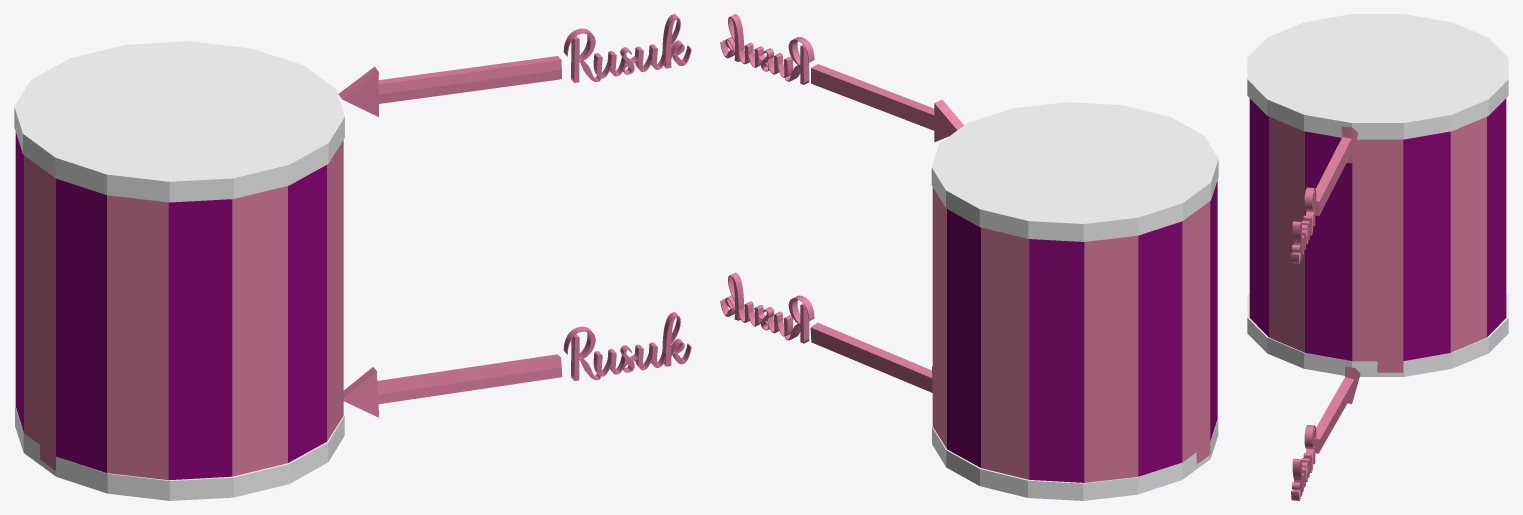
File: Rusuk-Tabung.fbx
3 renders of one model, left to right at view 1: azimuth 30°, elevation 25°; view 2: azimuth 150°, elevation 25°; view 3: azimuth 270°, elevation 25°, orthographic. The views are drawn at different scales.
Visible parts, largest first — view 1: Cylinder, Cylinder.010, Cylinder.009, Cylinder.011, Cylinder.008, Cylinder.012, Cylinder.007, Cylinder.017, Cube, Cube.001, Cylinder.013, Text.001 (+2 smaller); view 2: Cylinder, Cylinder.004, Cylinder.005, Cylinder.003, Cylinder.006, Cylinder.002, Cylinder.007, Cylinder.017, Cube, Cylinder.001, Cube.001, Text (+2 smaller); view 3: Cylinder, Cylinder.015, Cylinder.016, Cylinder.014, Cylinder.001, Cylinder.013, Cylinder.012, Cylinder.002, Cylinder.017, Cube, Cube.001, Text (+1 smaller).
Part boxes in pixels (box(x1,y1,x2,y2)): Cylinder: box(14, 41, 344, 202); Cylinder.010: box(168, 199, 232, 480); Cylinder.009: box(107, 195, 168, 479); Cylinder.011: box(232, 186, 287, 476); Cylinder.008: box(56, 178, 106, 472); Cylinder.012: box(288, 165, 326, 462); Cylinder.007: box(24, 155, 55, 470); Cylinder.017: box(15, 405, 344, 500); Cube: box(338, 56, 561, 116); Cube.001: box(343, 354, 562, 417); Cylinder.013: box(327, 140, 343, 441); Text.001: box(563, 312, 691, 380); Cylinder: box(931, 102, 1218, 241); Cylinder.004: box(1029, 239, 1084, 482); Cylinder.005: box(1084, 235, 1138, 482); Cylinder.003: box(981, 227, 1029, 479); Cylinder.006: box(1138, 221, 1182, 476); Cylinder.002: box(947, 209, 980, 467); Cylinder.007: box(1182, 201, 1210, 463); Cylinder.017: box(932, 418, 1218, 500); Cube: box(811, 64, 963, 142); Cylinder.001: box(932, 187, 946, 448); Cube.001: box(810, 322, 932, 392); Text: box(720, 14, 814, 84); Cylinder: box(1247, 14, 1508, 139); Cylinder.015: box(1352, 139, 1403, 372); Cylinder.016: box(1403, 131, 1450, 360); Cylinder.014: box(1305, 131, 1352, 360); Cylinder.001: box(1450, 117, 1486, 352); Cylinder.013: box(1269, 116, 1304, 352); Cylinder.012: box(1249, 98, 1268, 336); Cylinder.002: box(1487, 98, 1506, 336); Cylinder.017: box(1247, 294, 1508, 376); Cube: box(1315, 126, 1357, 215); Cube.001: box(1315, 366, 1360, 453); Text: box(1291, 187, 1316, 263).
Size of the model in its own units: 421 by 240 by 199.
